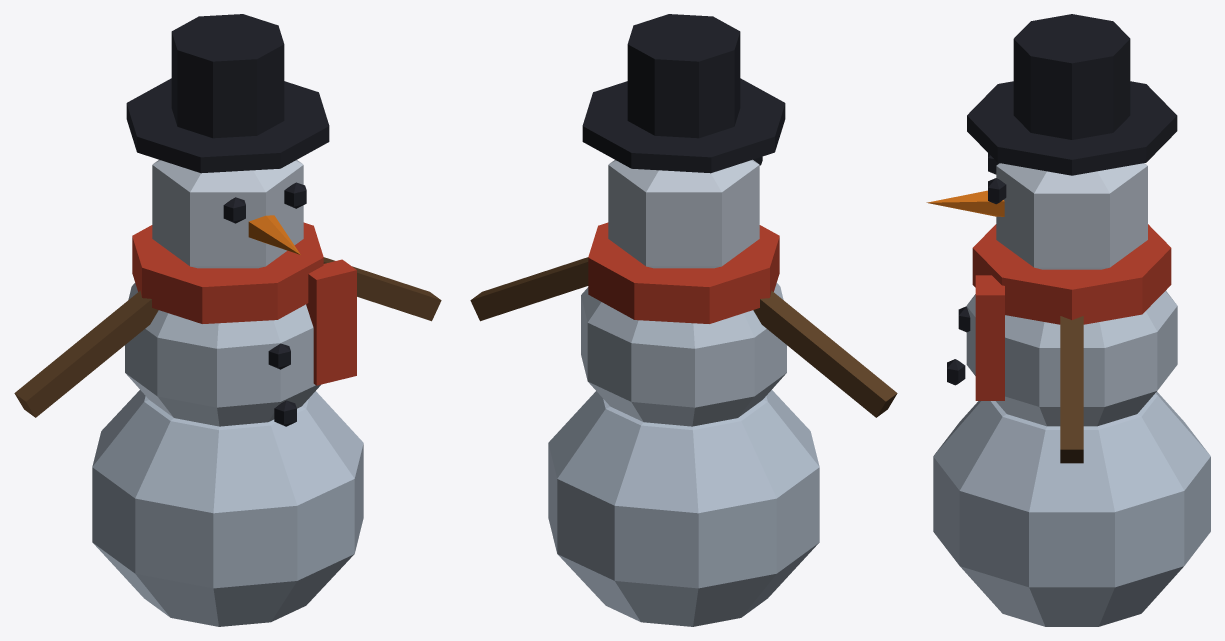
File: critter_snowmini.glb
The picture shows the model from 3 angles, left to right: view 1: azimuth 30°, elevation 25°; view 2: azimuth 150°, elevation 25°; view 3: azimuth 270°, elevation 25°; orthographic projection.
Parts seen in each view (by area): view 1: snowmini; view 2: snowmini; view 3: snowmini.
Part boxes in pixels (x1,y1,x2,y2): snowmini: [14, 14, 441, 626]; snowmini: [470, 14, 897, 626]; snowmini: [926, 14, 1210, 626].
Size of the model in its own units: 0.8225 by 1.09 by 0.4878.
